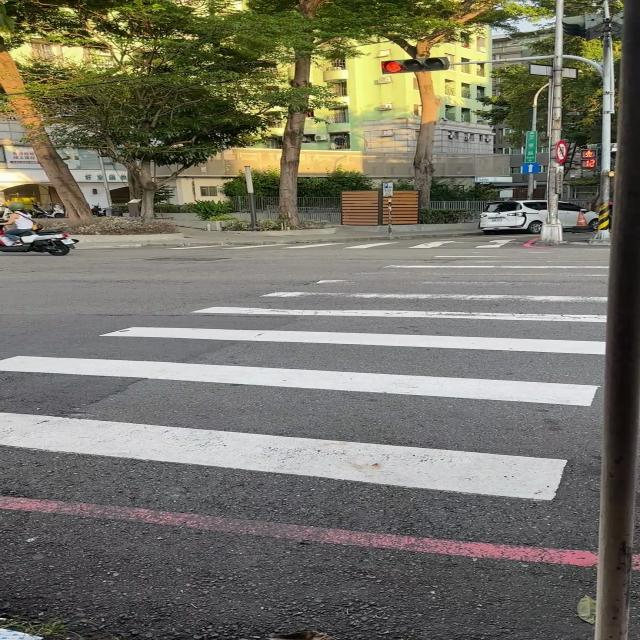car: (479, 200, 547, 234), (556, 201, 598, 230)
crosswalk: (0, 248, 609, 502), (159, 238, 523, 249)
motocycle: (0, 230, 77, 255)
